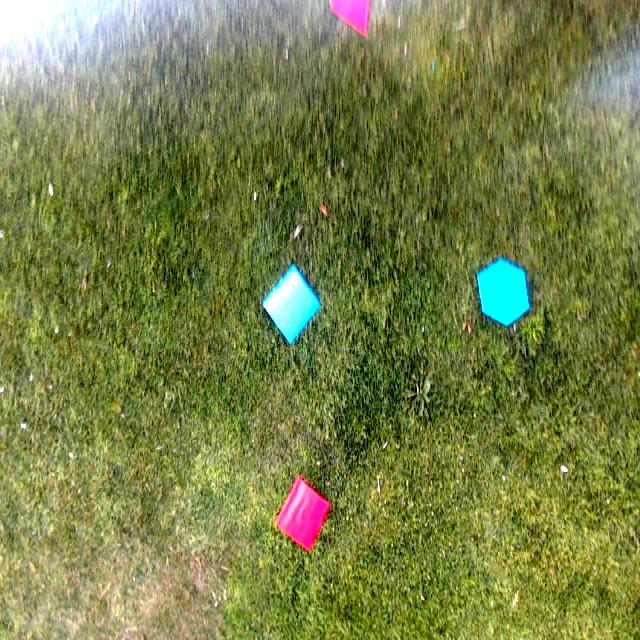blue_hexagon: (476, 260, 532, 326)
blue_square: (262, 267, 319, 344)
red_square: (276, 476, 328, 552)
